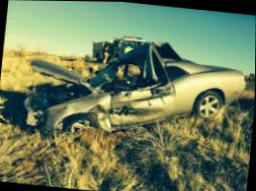Bonnet: (28, 57, 87, 115)
Bumper: (18, 91, 44, 137)
Door: (97, 43, 176, 127)
Fender: (42, 91, 115, 135)
